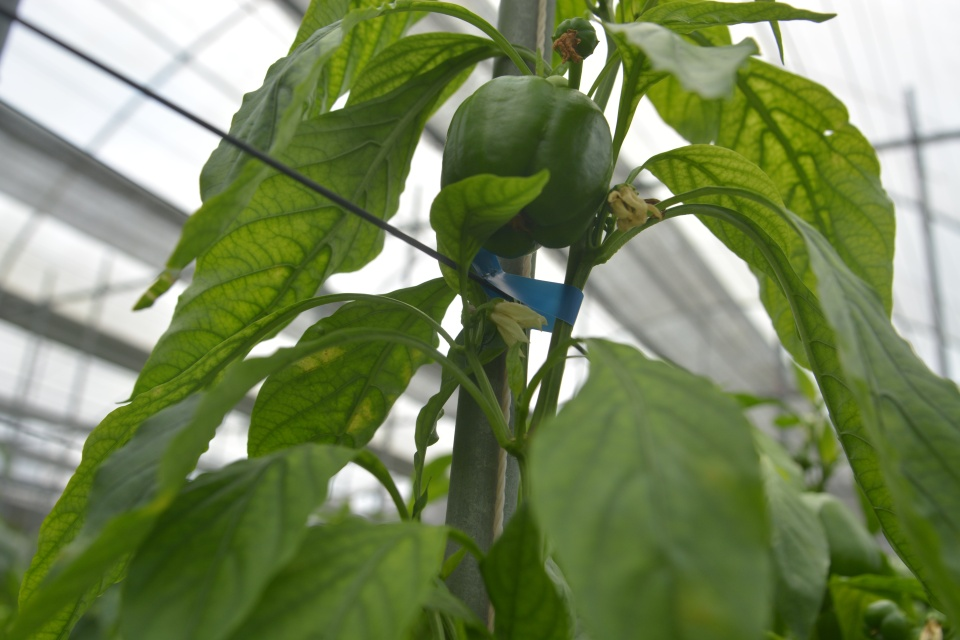flower: (488, 296, 549, 357), (606, 183, 663, 234)
fruit: (437, 80, 616, 261)
